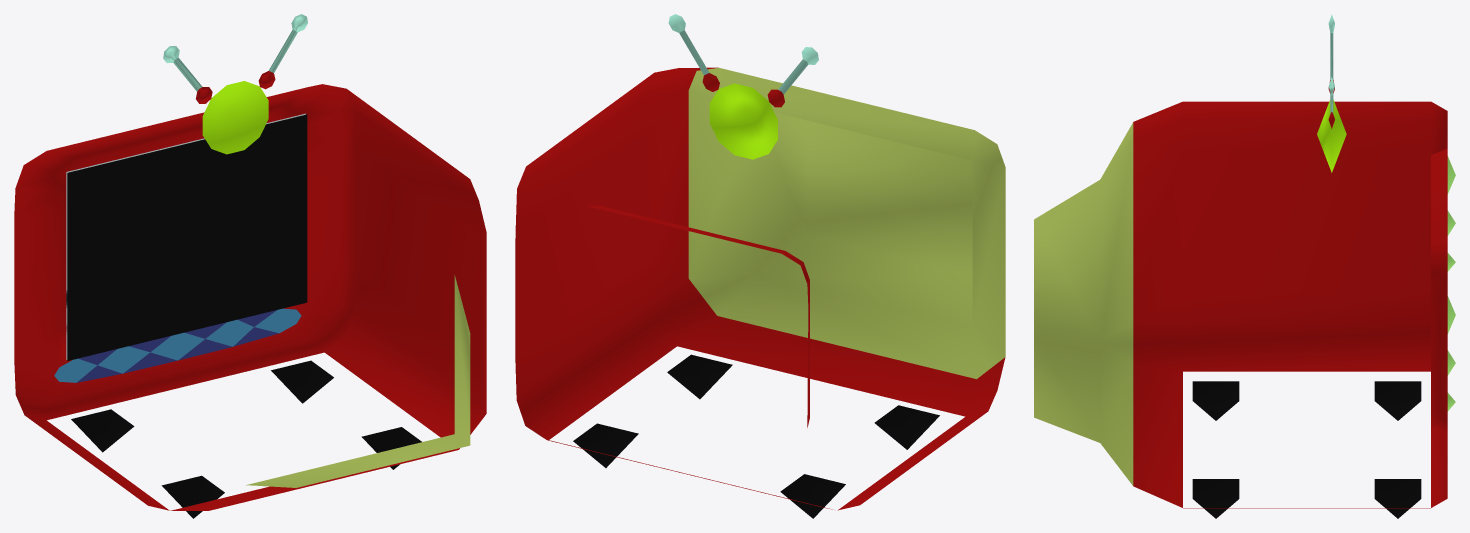
The model's file is ps2_save-icons_parappatherapper2replay8.glb.
3 views of the same model, side by side, from view 1: azimuth 30°, elevation 25°; view 2: azimuth 150°, elevation 25°; view 3: azimuth 270°, elevation 25° (orthographic). The views are drawn at different scales.
Parts seen in each view (by area): view 1: icon1.ico; view 2: icon1.ico; view 3: icon1.ico.
Boxes of the visible parts, bbox=[...] form: icon1.ico: bbox=[14, 14, 486, 518]; icon1.ico: bbox=[515, 14, 1005, 518]; icon1.ico: bbox=[1034, 14, 1455, 518].
Size of the model in its own units: 4.19 by 4.95 by 4.46.
Materials: 1 (1 with a texture image).
